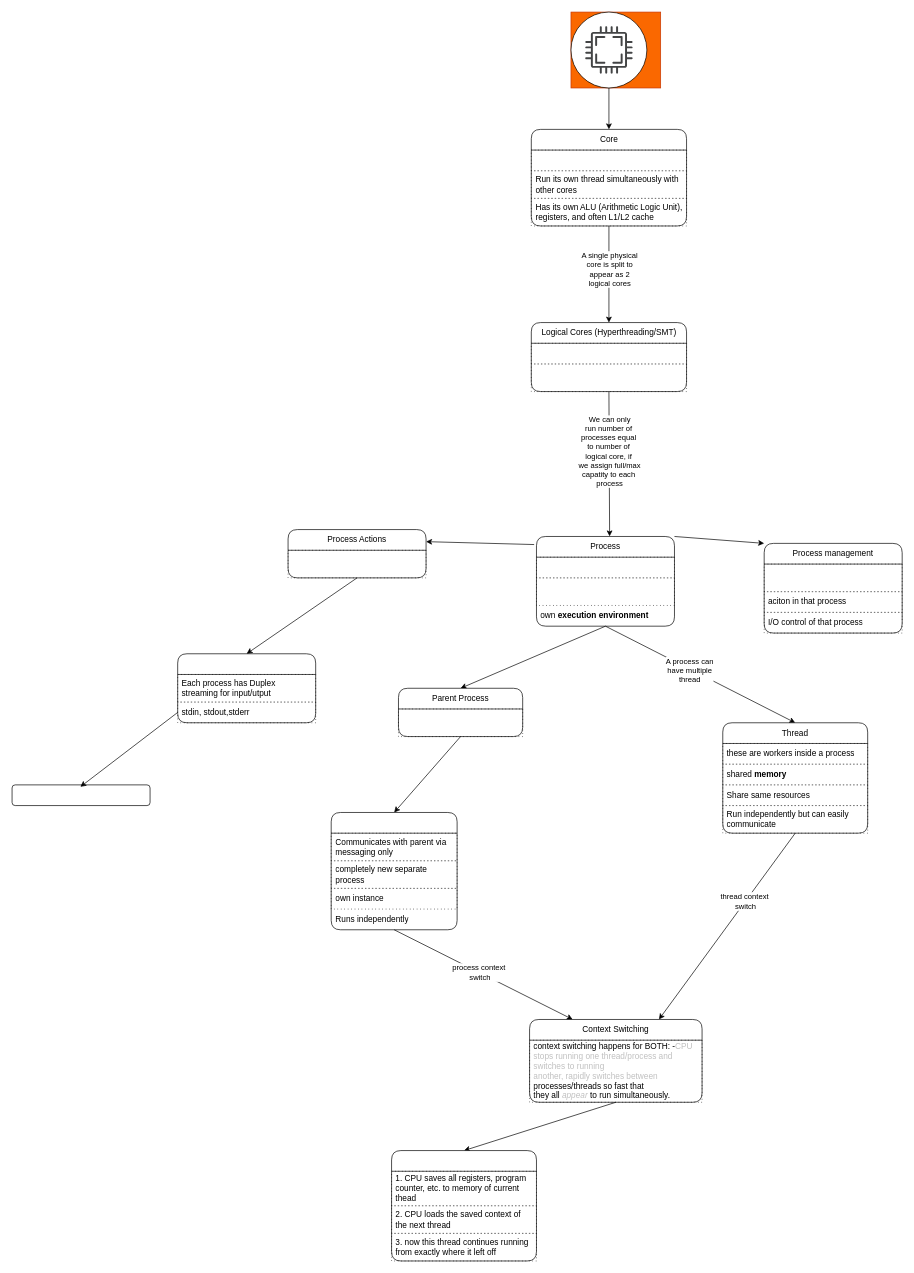
Image size: 914x1273. Some labels were removed from this diagram. Each missing label, with the box of its shape:
Also has event emitter and listner: (11, 784, 150, 806)
Can run 2 threads, but they compete for the same resources: (531, 363, 687, 392)
Child Process: (331, 812, 457, 930)
Communication between parent and child process: (287, 550, 426, 578)
creation: (763, 563, 902, 592)
Each process has input/output: (177, 653, 316, 723)
Execute instructions independently: (531, 149, 687, 171)
How context switching happens: (391, 1150, 536, 1261)
Its own memory: (536, 556, 674, 578)
own resources (files, network connections, etc.): (536, 577, 674, 605)
Shares the same execution units: (531, 343, 687, 364)
The process that creates another process: (398, 708, 523, 737)
